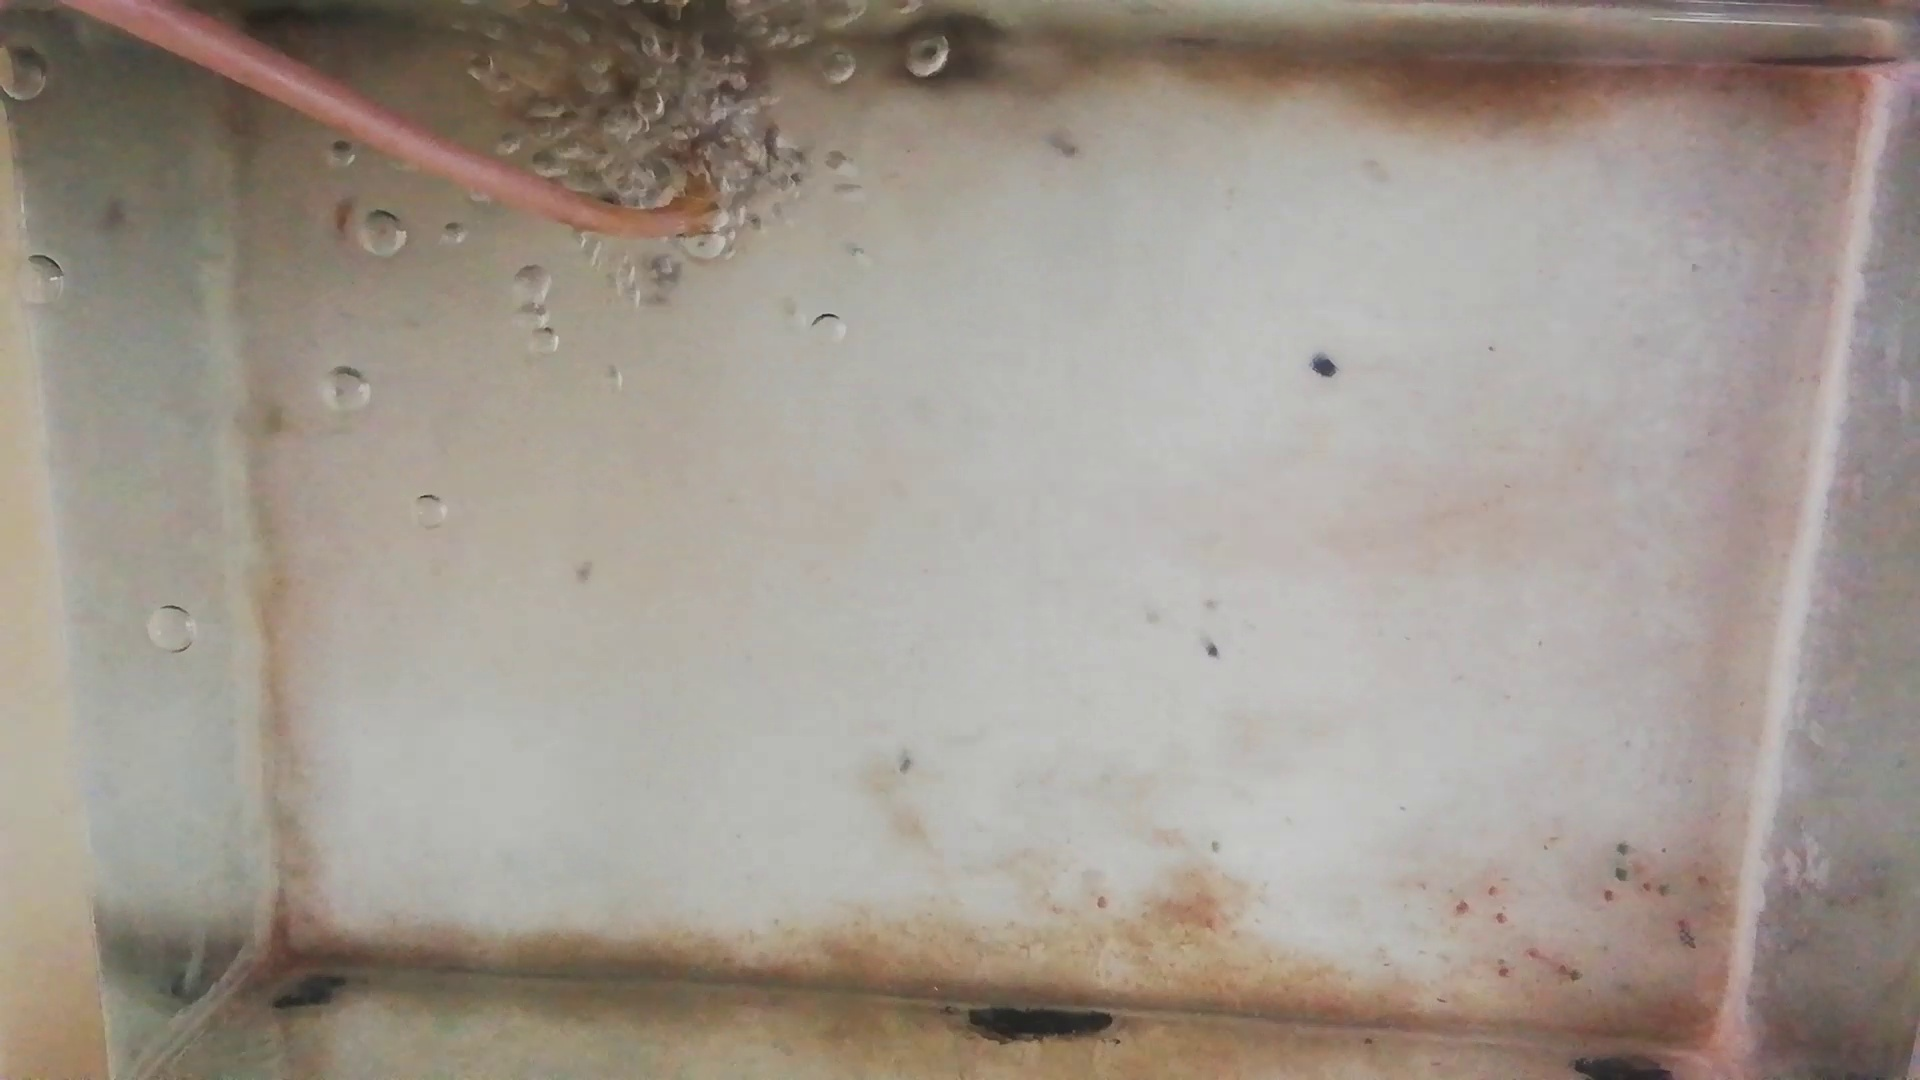fish: (516, 65, 764, 116)
